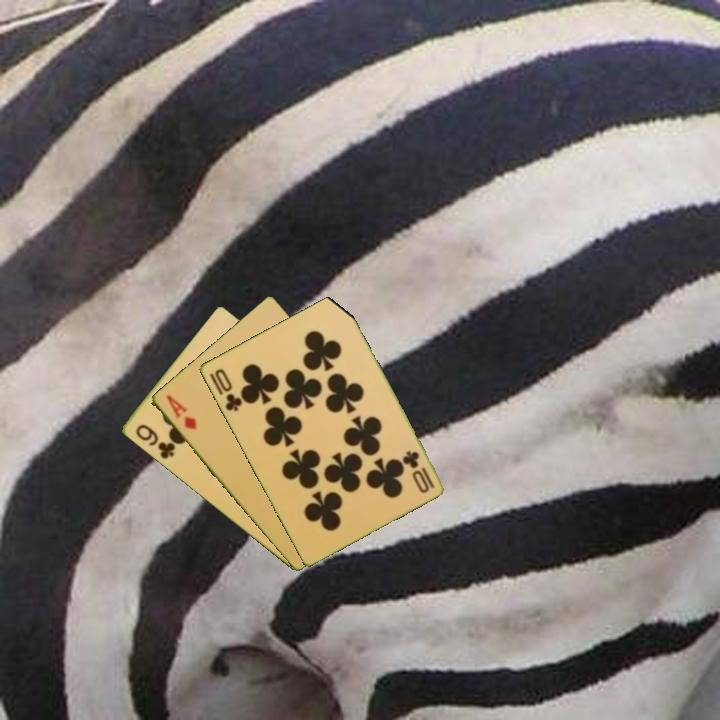10c: (399, 447, 437, 496), (211, 365, 245, 414)
9c: (132, 420, 178, 462)
Ad: (162, 391, 199, 433)
